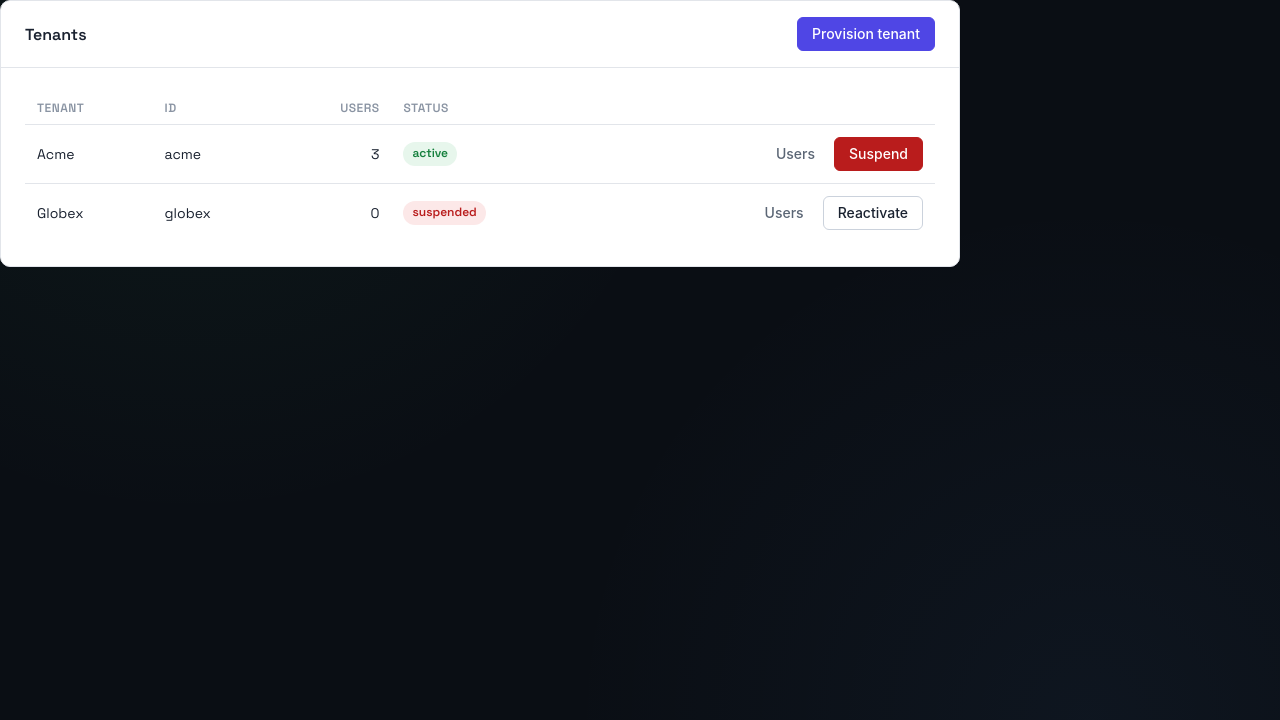
PlatformScreen drill (S98) › shows a generic drill error on a non-API failure
Expected: the text "Acme" is shown, [25,124,153,184]
Click the button with test id "drill-acme" at (795, 154), box [761,137,830,171]
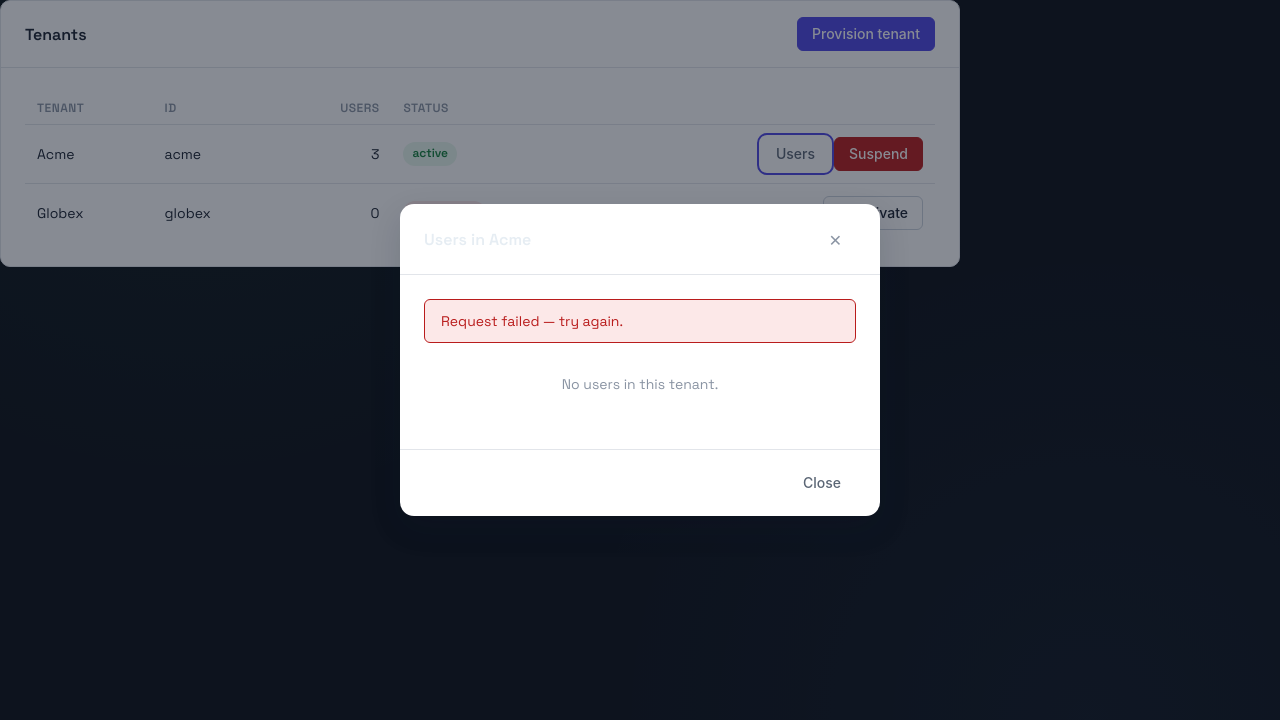
Result: the message with test id "drill-error" shows "Request failed" at [441,312,623,330]
